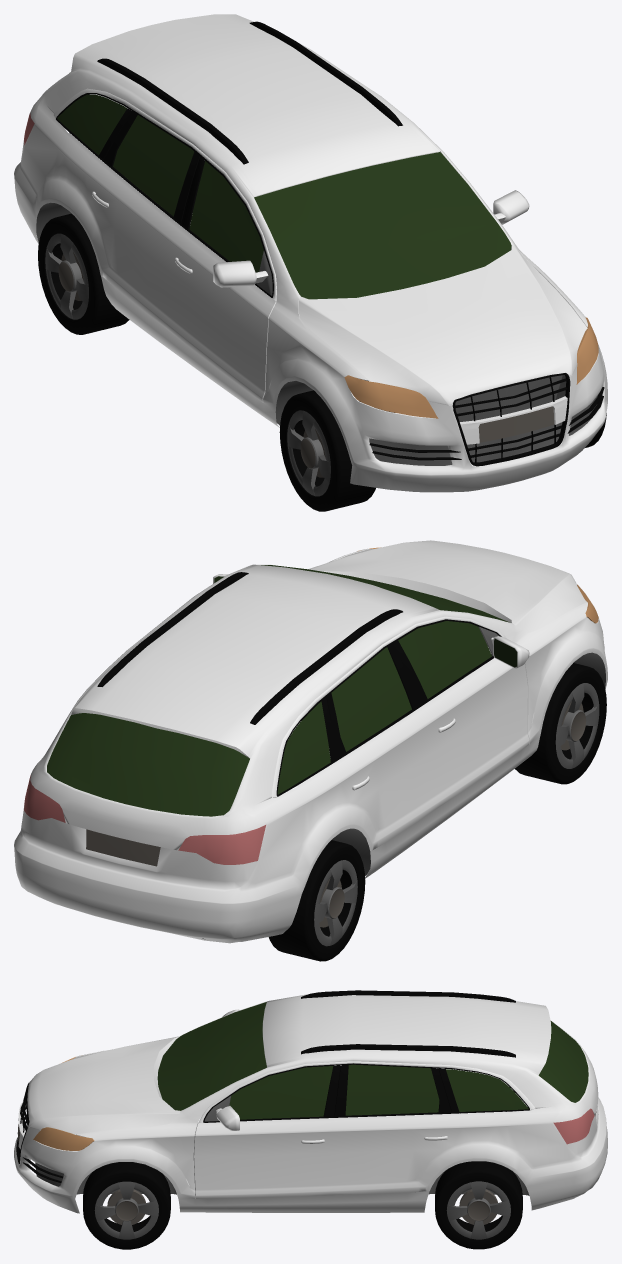
The model's file is car6.glb.
3 views of the same model, one above another, from view 1: azimuth 30°, elevation 25°; view 2: azimuth 150°, elevation 25°; view 3: azimuth 270°, elevation 25° (orthographic). The views are drawn at different scales.
Visible parts, largest first — view 1: VehicleBody, obj0~Material__32_materialGroup_0, obj18~??_3_materialGroup_9, obj19~??_15_materialGroup_10, obj4~_____21_materialGroup_4, obj11~_____21_materialGroup_8, ~??_10_materialGroup_6, obj2~??_2_materialGroup_2, obj34~car6012_materialGroup_13, ~??_22_materialGroup_5; view 2: VehicleBody, obj0~Material__32_materialGroup_0, obj18~??_3_materialGroup_9, obj11~_____21_materialGroup_8, obj4~_____21_materialGroup_4, ~??_10_materialGroup_6, obj1~??_5_materialGroup_1, obj34~car6012_materialGroup_13, obj19~??_15_materialGroup_10, ~??_22_materialGroup_5; view 3: VehicleBody, obj0~Material__32_materialGroup_0, obj18~??_3_materialGroup_9, obj27~_____21_materialGroup_12, obj20~_____21_materialGroup_11, ~??_10_materialGroup_6, ~??_22_materialGroup_5, obj19~??_15_materialGroup_10, obj2~??_2_materialGroup_2, obj1~??_5_materialGroup_1.
Part boxes in pixels (<box>): VehicleBody: <box>14,14,607,492</box>; obj0~Material__32_materialGroup_0: <box>57,72,511,299</box>; obj18~??_3_materialGroup_9: <box>56,21,604,466</box>; obj19~??_15_materialGroup_10: <box>36,202,598,465</box>; obj4~_____21_materialGroup_4: <box>279,390,375,511</box>; obj11~_____21_materialGroup_8: <box>38,213,129,334</box>; ~??_10_materialGroup_6: <box>45,233,330,496</box>; obj2~??_2_materialGroup_2: <box>344,317,598,418</box>; obj34~car6012_materialGroup_13: <box>478,406,554,442</box>; ~??_22_materialGroup_5: <box>58,252,325,477</box>; VehicleBody: <box>14,540,607,943</box>; obj0~Material__32_materialGroup_0: <box>47,565,517,816</box>; obj18~??_3_materialGroup_9: <box>97,572,501,796</box>; obj11~_____21_materialGroup_8: <box>268,840,365,961</box>; obj4~_____21_materialGroup_4: <box>515,663,606,784</box>; ~??_10_materialGroup_6: <box>314,683,599,946</box>; obj1~??_5_materialGroup_1: <box>24,775,265,864</box>; obj34~car6012_materialGroup_13: <box>86,829,160,866</box>; obj19~??_15_materialGroup_10: <box>202,627,605,939</box>; ~??_22_materialGroup_5: <box>319,701,586,927</box>; VehicleBody: <box>14,994,607,1213</box>; obj0~Material__32_materialGroup_0: <box>157,1002,588,1119</box>; obj18~??_3_materialGroup_9: <box>16,990,529,1182</box>; obj27~_____21_materialGroup_12: <box>435,1161,522,1249</box>; obj20~_____21_materialGroup_11: <box>83,1162,170,1249</box>; ~??_10_materialGroup_6: <box>94,1181,510,1239</box>; ~??_22_materialGroup_5: <box>107,1113,497,1224</box>; obj19~??_15_materialGroup_10: <box>25,1096,529,1195</box>; obj2~??_2_materialGroup_2: <box>33,1057,94,1150</box>; obj1~??_5_materialGroup_1: <box>553,1108,594,1144</box>.
Size of the model in its own units: 3.17 by 2.48 by 7.22.
